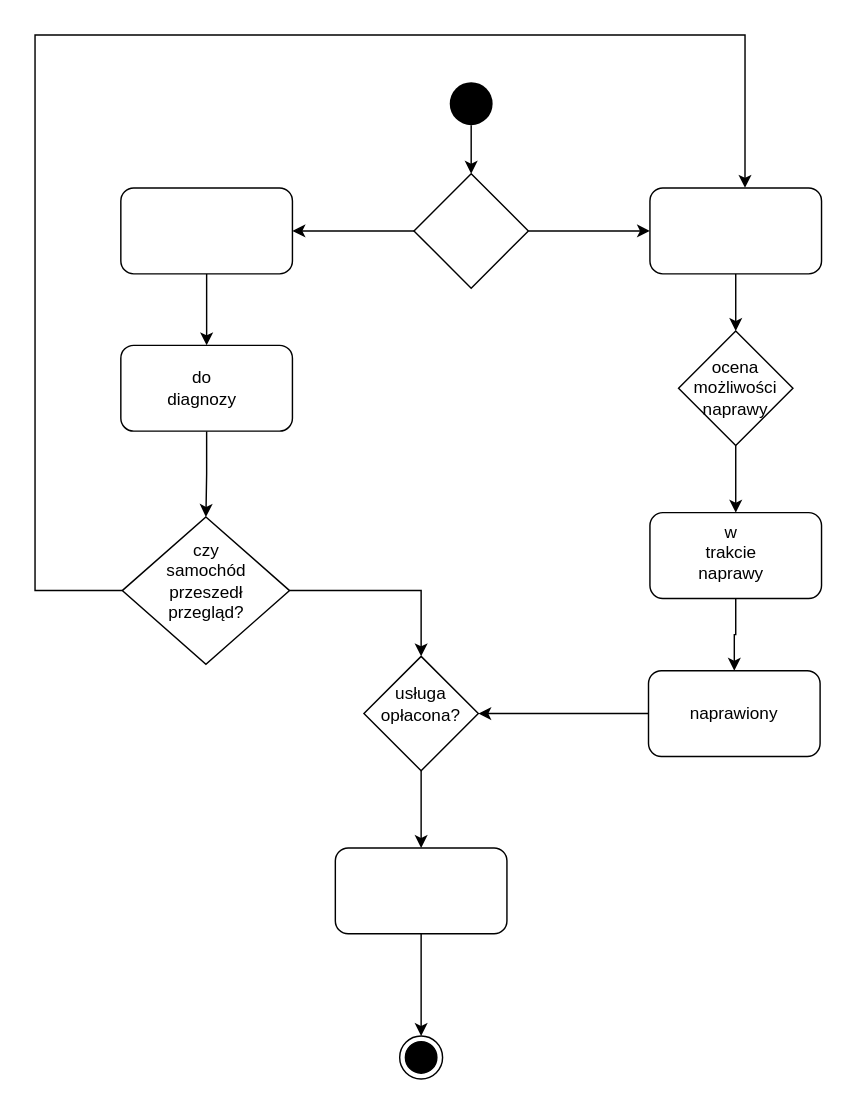
This 847x1104 diagram has some shape labels left out. Here are the shapes that lost their labels. From the top down, the box of each, then its label:
(119, 187, 292, 274): przyjęty do przegladu
(649, 187, 822, 274): przyjęty do naprawy
(334, 847, 507, 934): do odbioru
